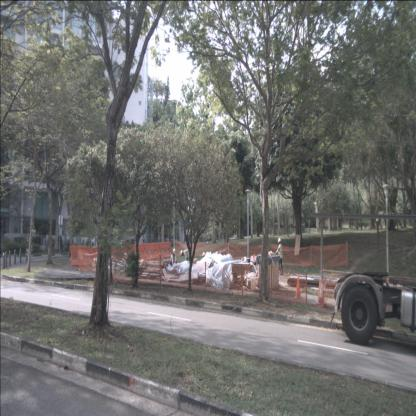movable_object-barrier: (70, 245, 93, 267), (128, 243, 146, 262), (113, 244, 130, 262), (146, 242, 160, 261), (158, 243, 172, 259)
movable_object-trafficcone: (319, 279, 325, 306), (295, 276, 301, 298), (318, 278, 323, 303)
vehicle-truck: (329, 271, 416, 347)
